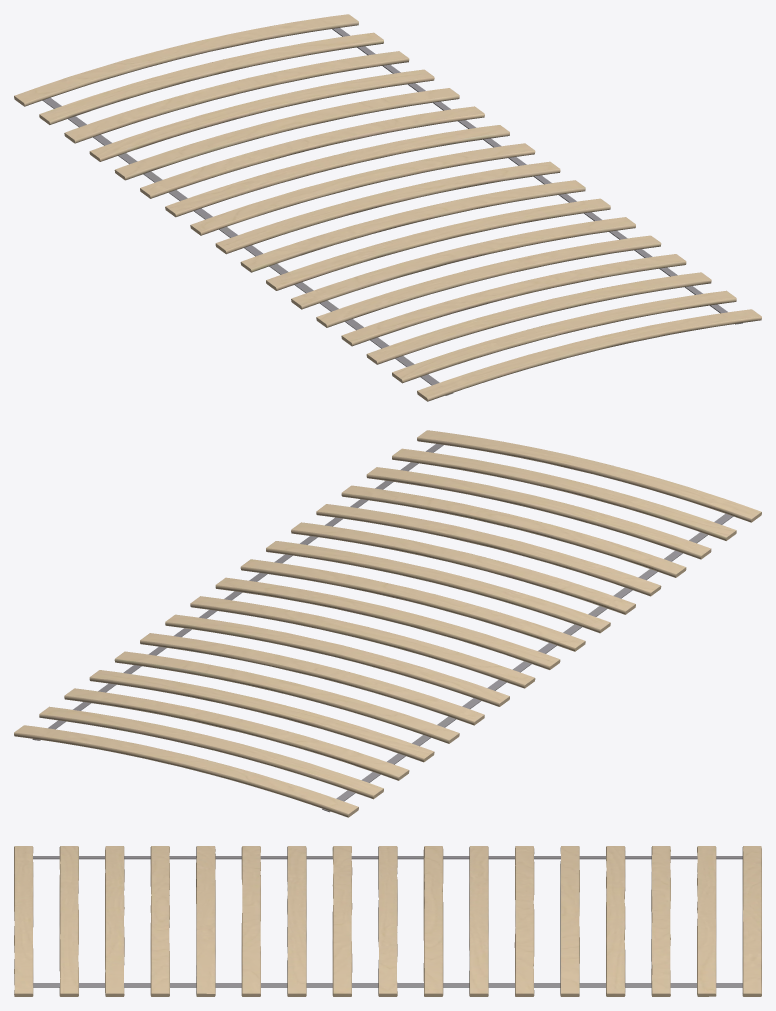
Rendered from 90160211-mini.glb.
3 renders of one model, top to bottom at view 1: azimuth 30°, elevation 25°; view 2: azimuth 150°, elevation 25°; view 3: azimuth 270°, elevation 25°, orthographic. The views are drawn at different scales.
Visible parts, largest first — view 1: model; view 2: model; view 3: model.
Part boxes in pixels (x1,y1,x2,y2): model: (14, 14, 761, 401); model: (14, 430, 761, 817); model: (14, 846, 761, 996).
Size of the model in its own units: 0.9 by 0.0356 by 1.93.
1 material, 1 textured.
